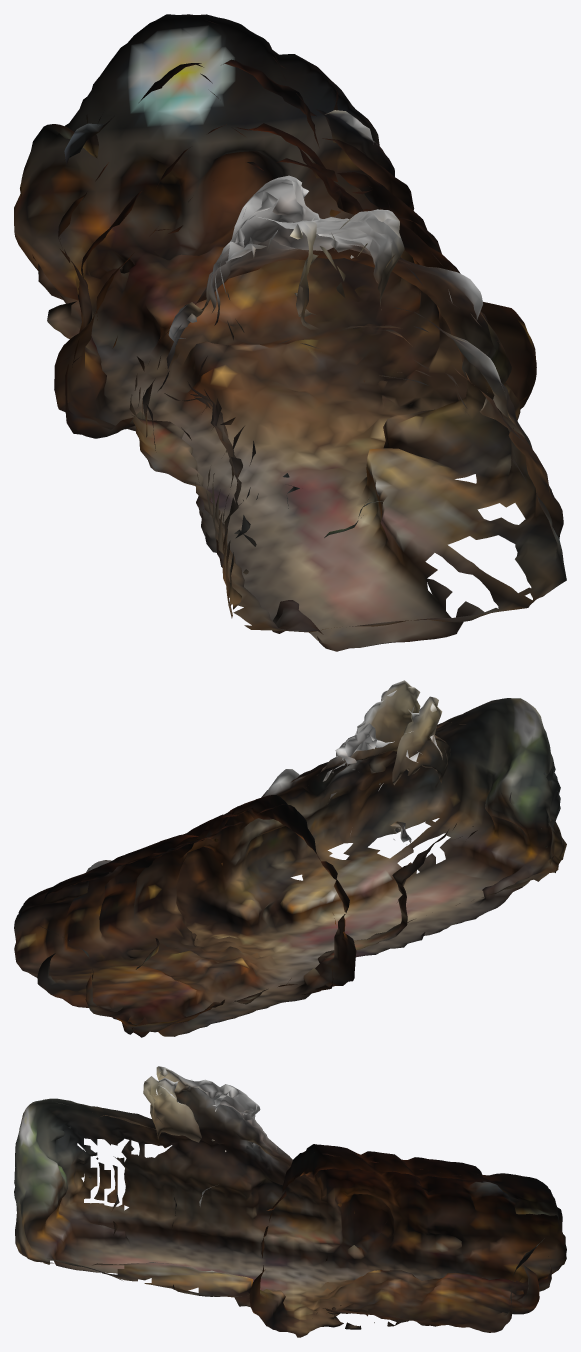
File: kitchen_mesh.glb
3 views of the same model, one above another, from view 1: azimuth 30°, elevation 25°; view 2: azimuth 150°, elevation 25°; view 3: azimuth 270°, elevation 25° (orthographic). The views are drawn at different scales.
Parts seen in each view (by area): view 1: mesh; view 2: mesh; view 3: mesh.
Boxes of the visible parts, box(x1,y1,x2,y2) form: mesh: box(14, 14, 566, 651); mesh: box(14, 680, 566, 1037); mesh: box(14, 1066, 566, 1337).
Size of the model in its own units: 8.53 by 5.59 by 14.41.
